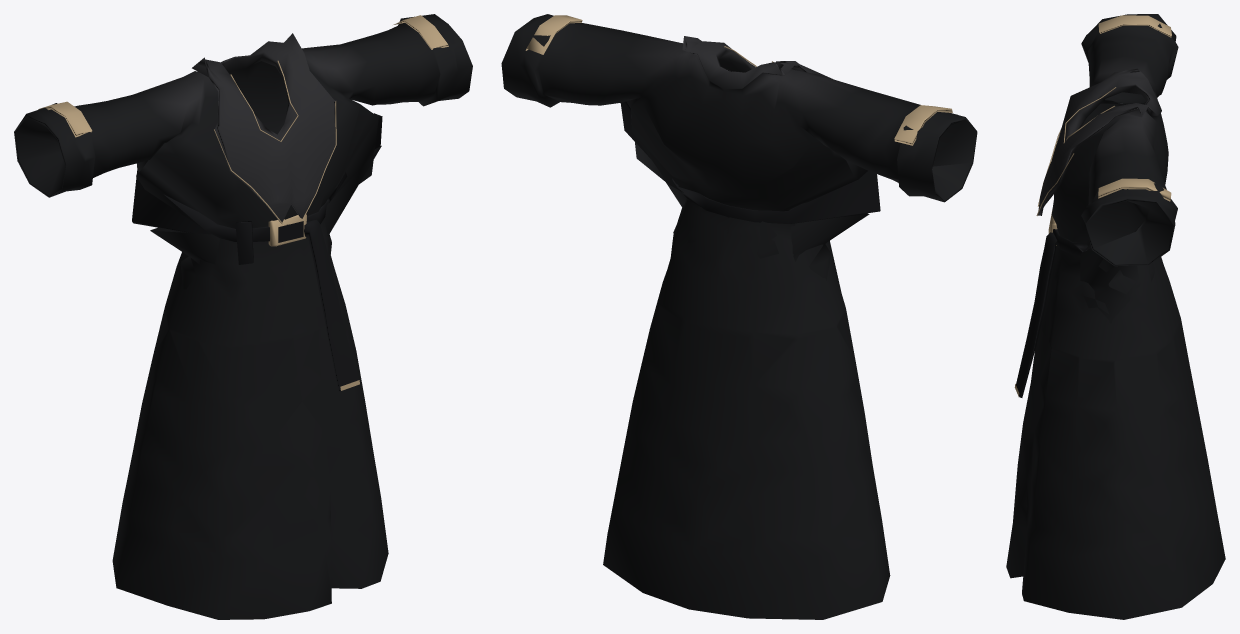
The model's file is belt-coat-only.glb.
3 views of the same model, side by side, from view 1: azimuth 30°, elevation 25°; view 2: azimuth 150°, elevation 25°; view 3: azimuth 270°, elevation 25° (orthographic). The views are drawn at different scales.
Parts seen in each view (by area): view 1: Apparel_belt-coat_0, Apparel_belt-coat_1, Apparel_belt-coat_color-fine-piping; view 2: Apparel_belt-coat_0, Apparel_belt-coat_1; view 3: Apparel_belt-coat_0, Apparel_belt-coat_1, Apparel_belt-coat_color-fine-piping.
Part boxes in pixels (x1,y1,x2,y2): Apparel_belt-coat_0: (14,14,472,619); Apparel_belt-coat_1: (38,15,448,391); Apparel_belt-coat_color-fine-piping: (214,60,359,390); Apparel_belt-coat_0: (501,14,977,619); Apparel_belt-coat_1: (525,15,952,223); Apparel_belt-coat_0: (1006,14,1225,619); Apparel_belt-coat_1: (1016,15,1171,397); Apparel_belt-coat_color-fine-piping: (1014,87,1116,396).
Bounding box in the file's own units: 2.74 × 3.25 × 1.33.
